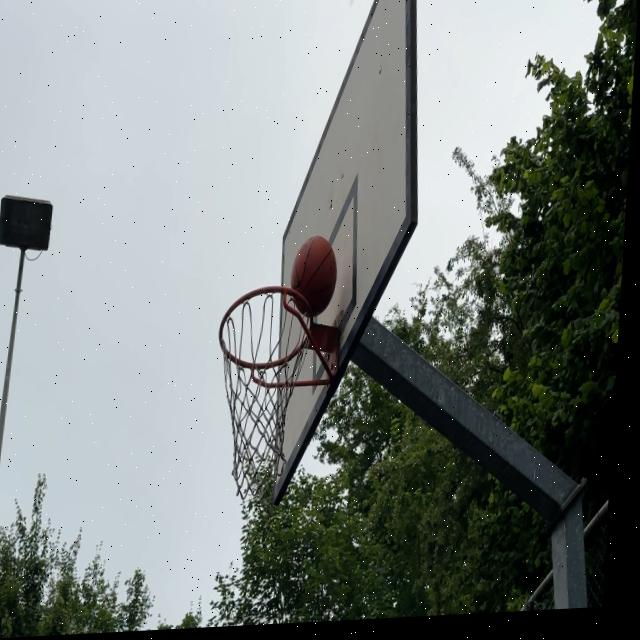rebound_hit: (288, 234, 339, 320)
